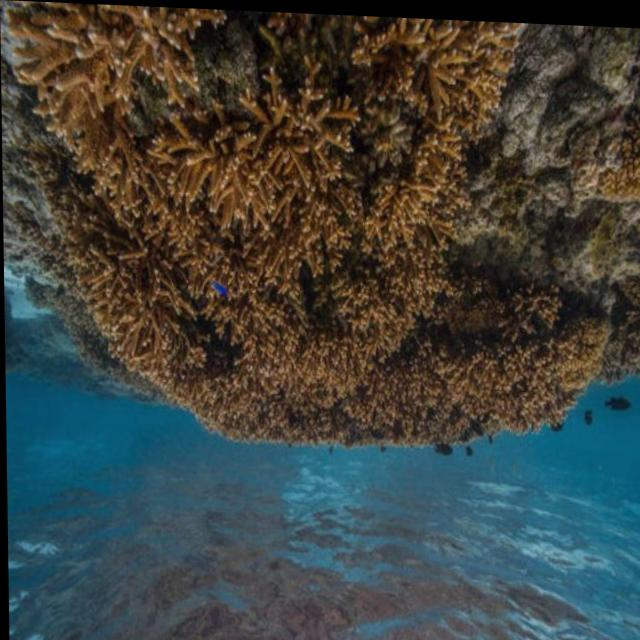Healthy Coral: (15, 13, 596, 423)
